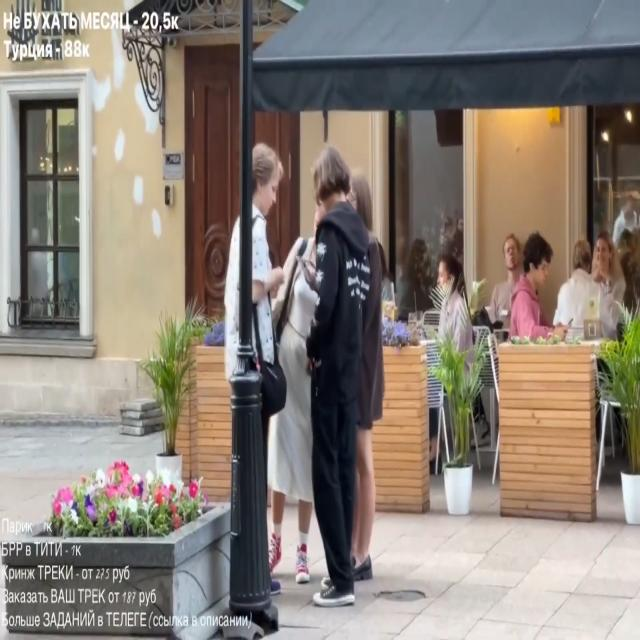Person: (271, 133, 387, 614), (554, 236, 625, 341), (510, 231, 566, 339), (477, 236, 524, 333)
